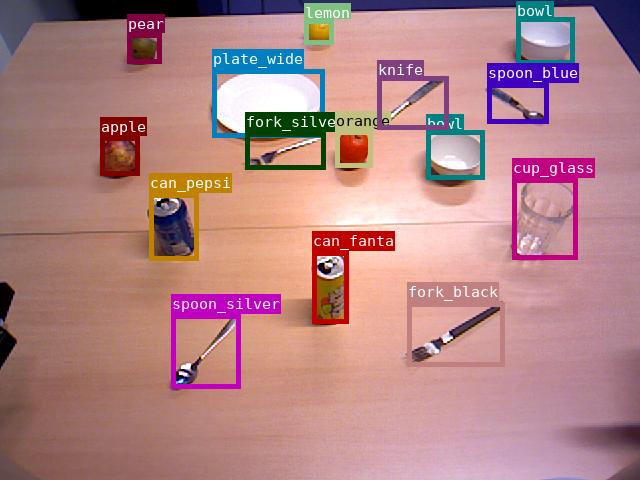apple: (100, 136, 139, 175)
bowl: (426, 130, 484, 179), (516, 17, 574, 64)
can_fanta: (312, 251, 348, 323)
can_pepsi: (149, 193, 198, 260)
cup_glass: (512, 178, 577, 259)
fork_black: (407, 302, 504, 366)
fork_silver: (245, 132, 325, 169)
knife: (377, 76, 448, 129)
lemon: (304, 19, 333, 44)
orange: (335, 130, 372, 167)
pear: (127, 33, 161, 63)
plate_wide: (212, 69, 324, 137)
spoon_blue: (487, 83, 548, 123)
spoon_silver: (171, 314, 240, 388)
